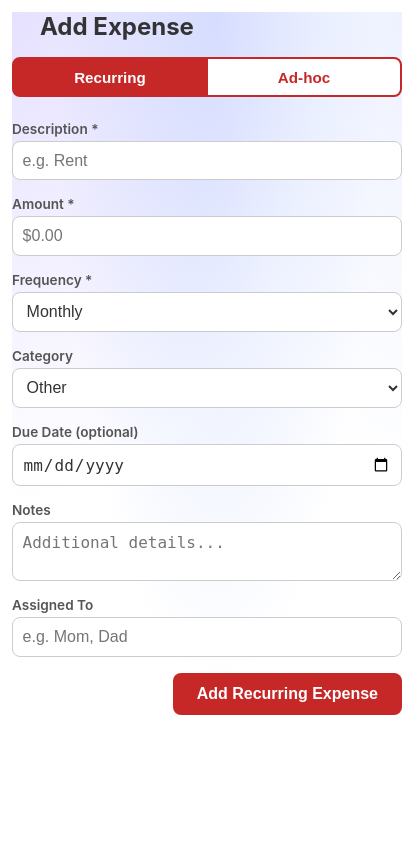
AddExpenseView › switches to adhoc tab on click
Click the button "Ad-hoc": (304, 77) 207,57 -> 402,97
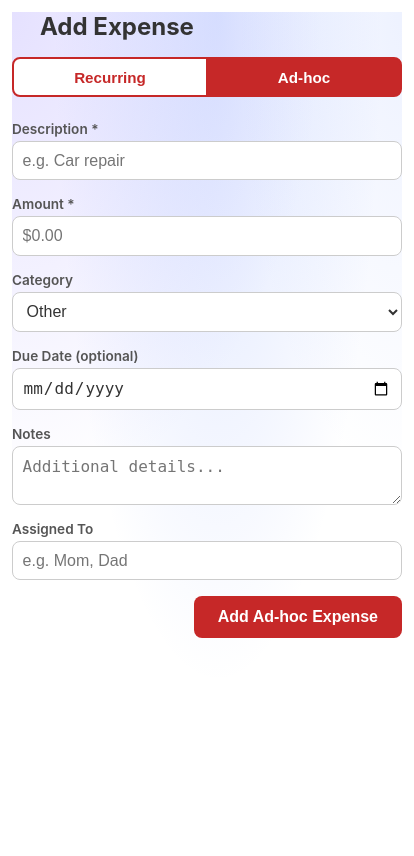
expect the text "Add Ad-hoc Expense" is shown: met, box 194,596 -> 402,638
